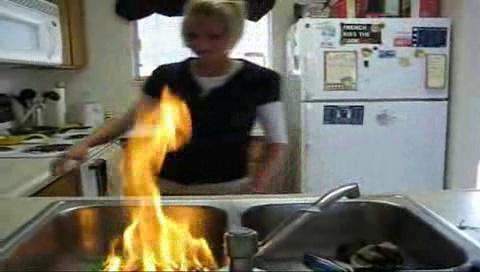fire: (110, 89, 210, 269)
